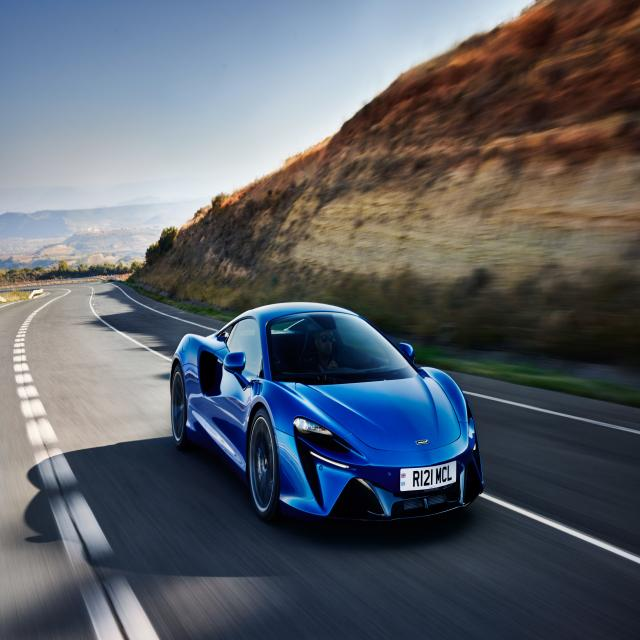car: (158, 282, 512, 582)
